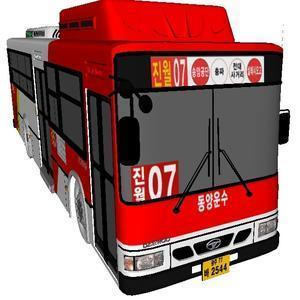07bus: (3, 4, 286, 288)
backdoor: (31, 53, 62, 184)
frontdoor: (86, 74, 123, 278)
